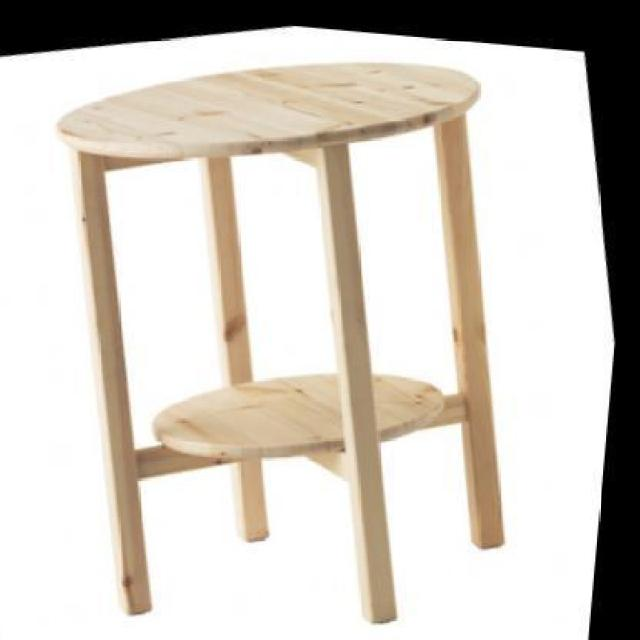tables: (53, 59, 504, 623)
